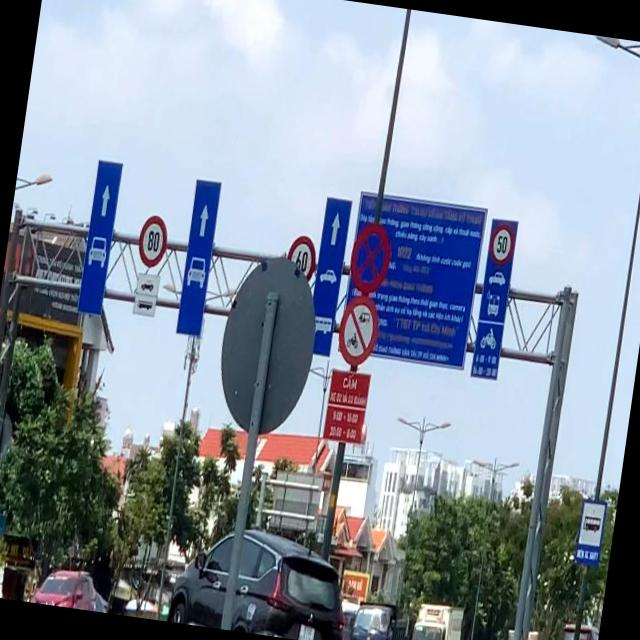P-104: (336, 292, 382, 368)
P-130: (347, 218, 395, 295)
